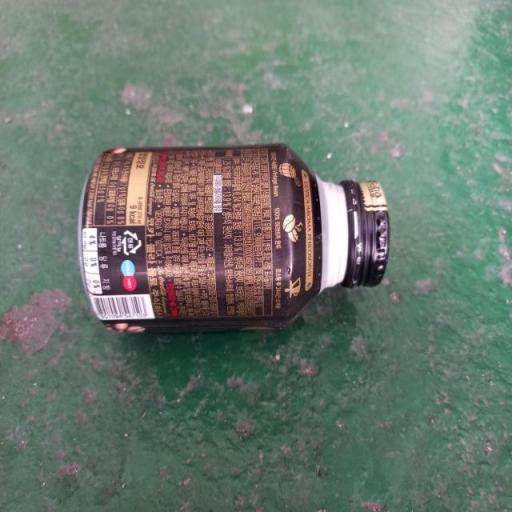metal: (46, 112, 396, 366)
